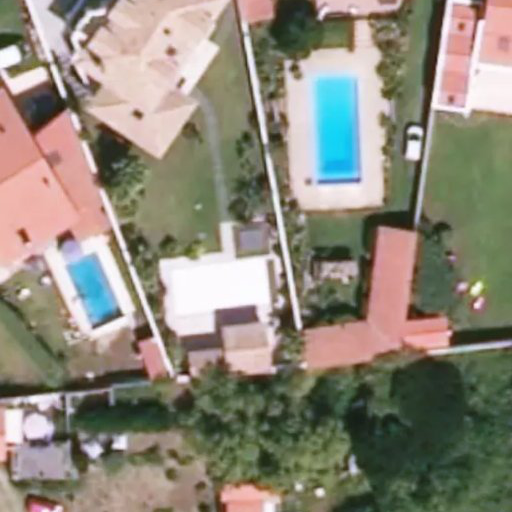pool: (235, 225, 276, 258)
